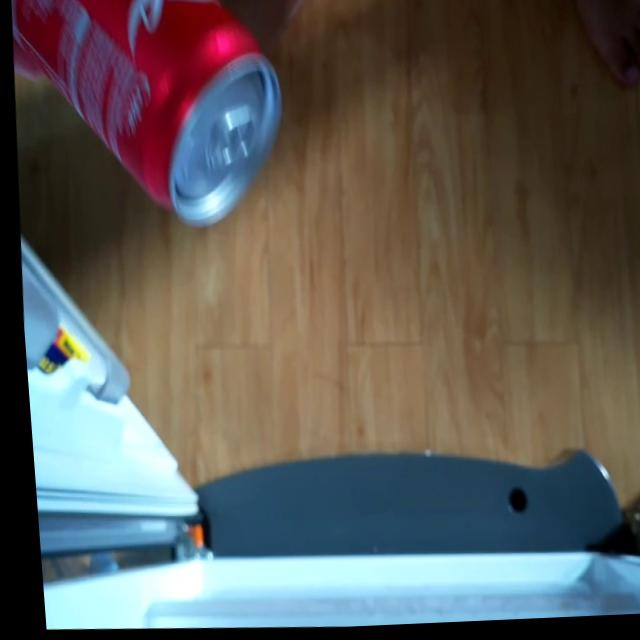coke: (5, 0, 293, 248)
